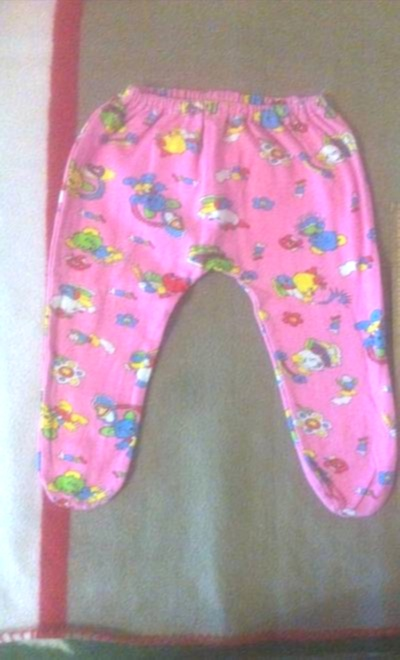Pants: (11, 59, 400, 559)
